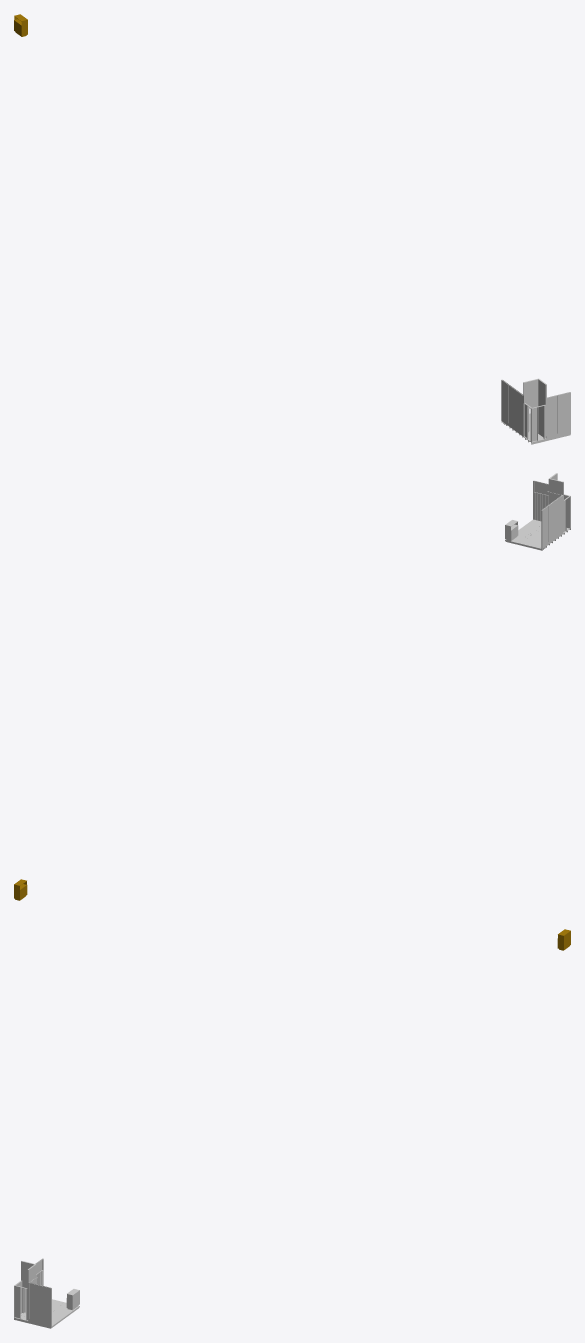
Rendered from KazBuild_9_TECNO PANEL_CONST_PROXY.glb.
The picture shows the model from 3 angles, top to bottom: view 1: azimuth 30°, elevation 25°; view 2: azimuth 150°, elevation 25°; view 3: azimuth 330°, elevation 25°; orthographic projection. The views are drawn at different scales.
Parts seen in each view (by area): view 1: no part large enough to name; view 2: Geom3D_Ковролан серый 4000х3000; view 3: no part large enough to name.
Part boxes in pixels (x1,y1,x2,y2): Geom3D_Ковролан серый 4000х3000: [505, 519, 568, 548].
Bounding box in the file's own units: 3.04 × 4.15 × 73.32.
